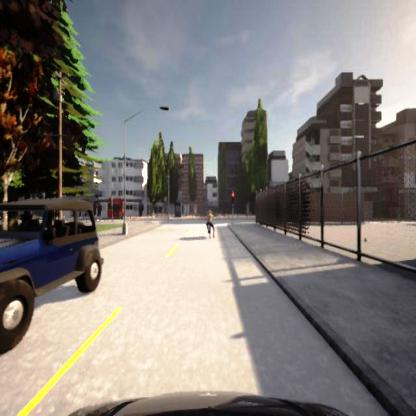bike: (205, 209, 215, 236)
vehicle: (0, 187, 103, 355)
